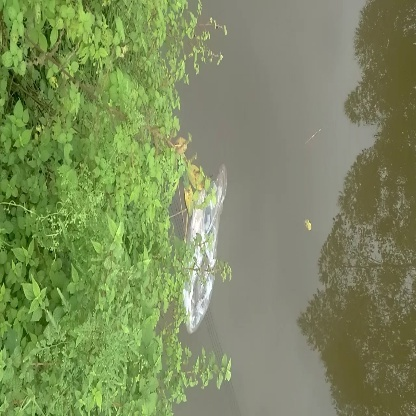plastic-bag: (177, 161, 234, 327)
